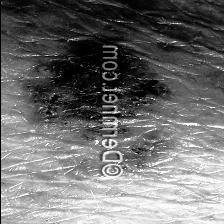Potentially Malignant Skin Tumors: (36, 58, 194, 176)
